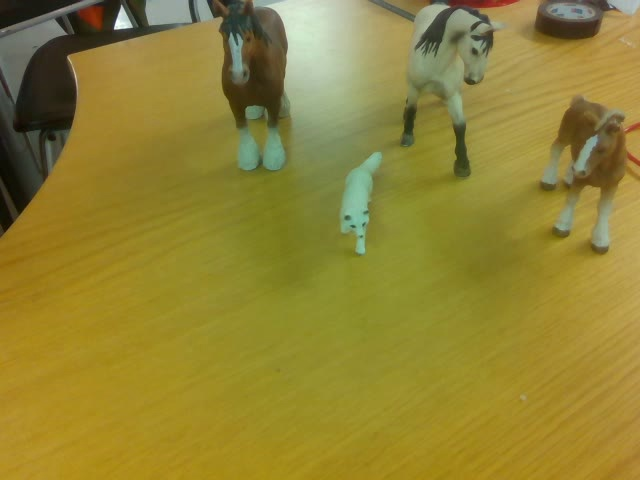toy: (398, 1, 504, 179), (541, 91, 627, 251), (210, 1, 289, 171), (339, 153, 384, 256)
